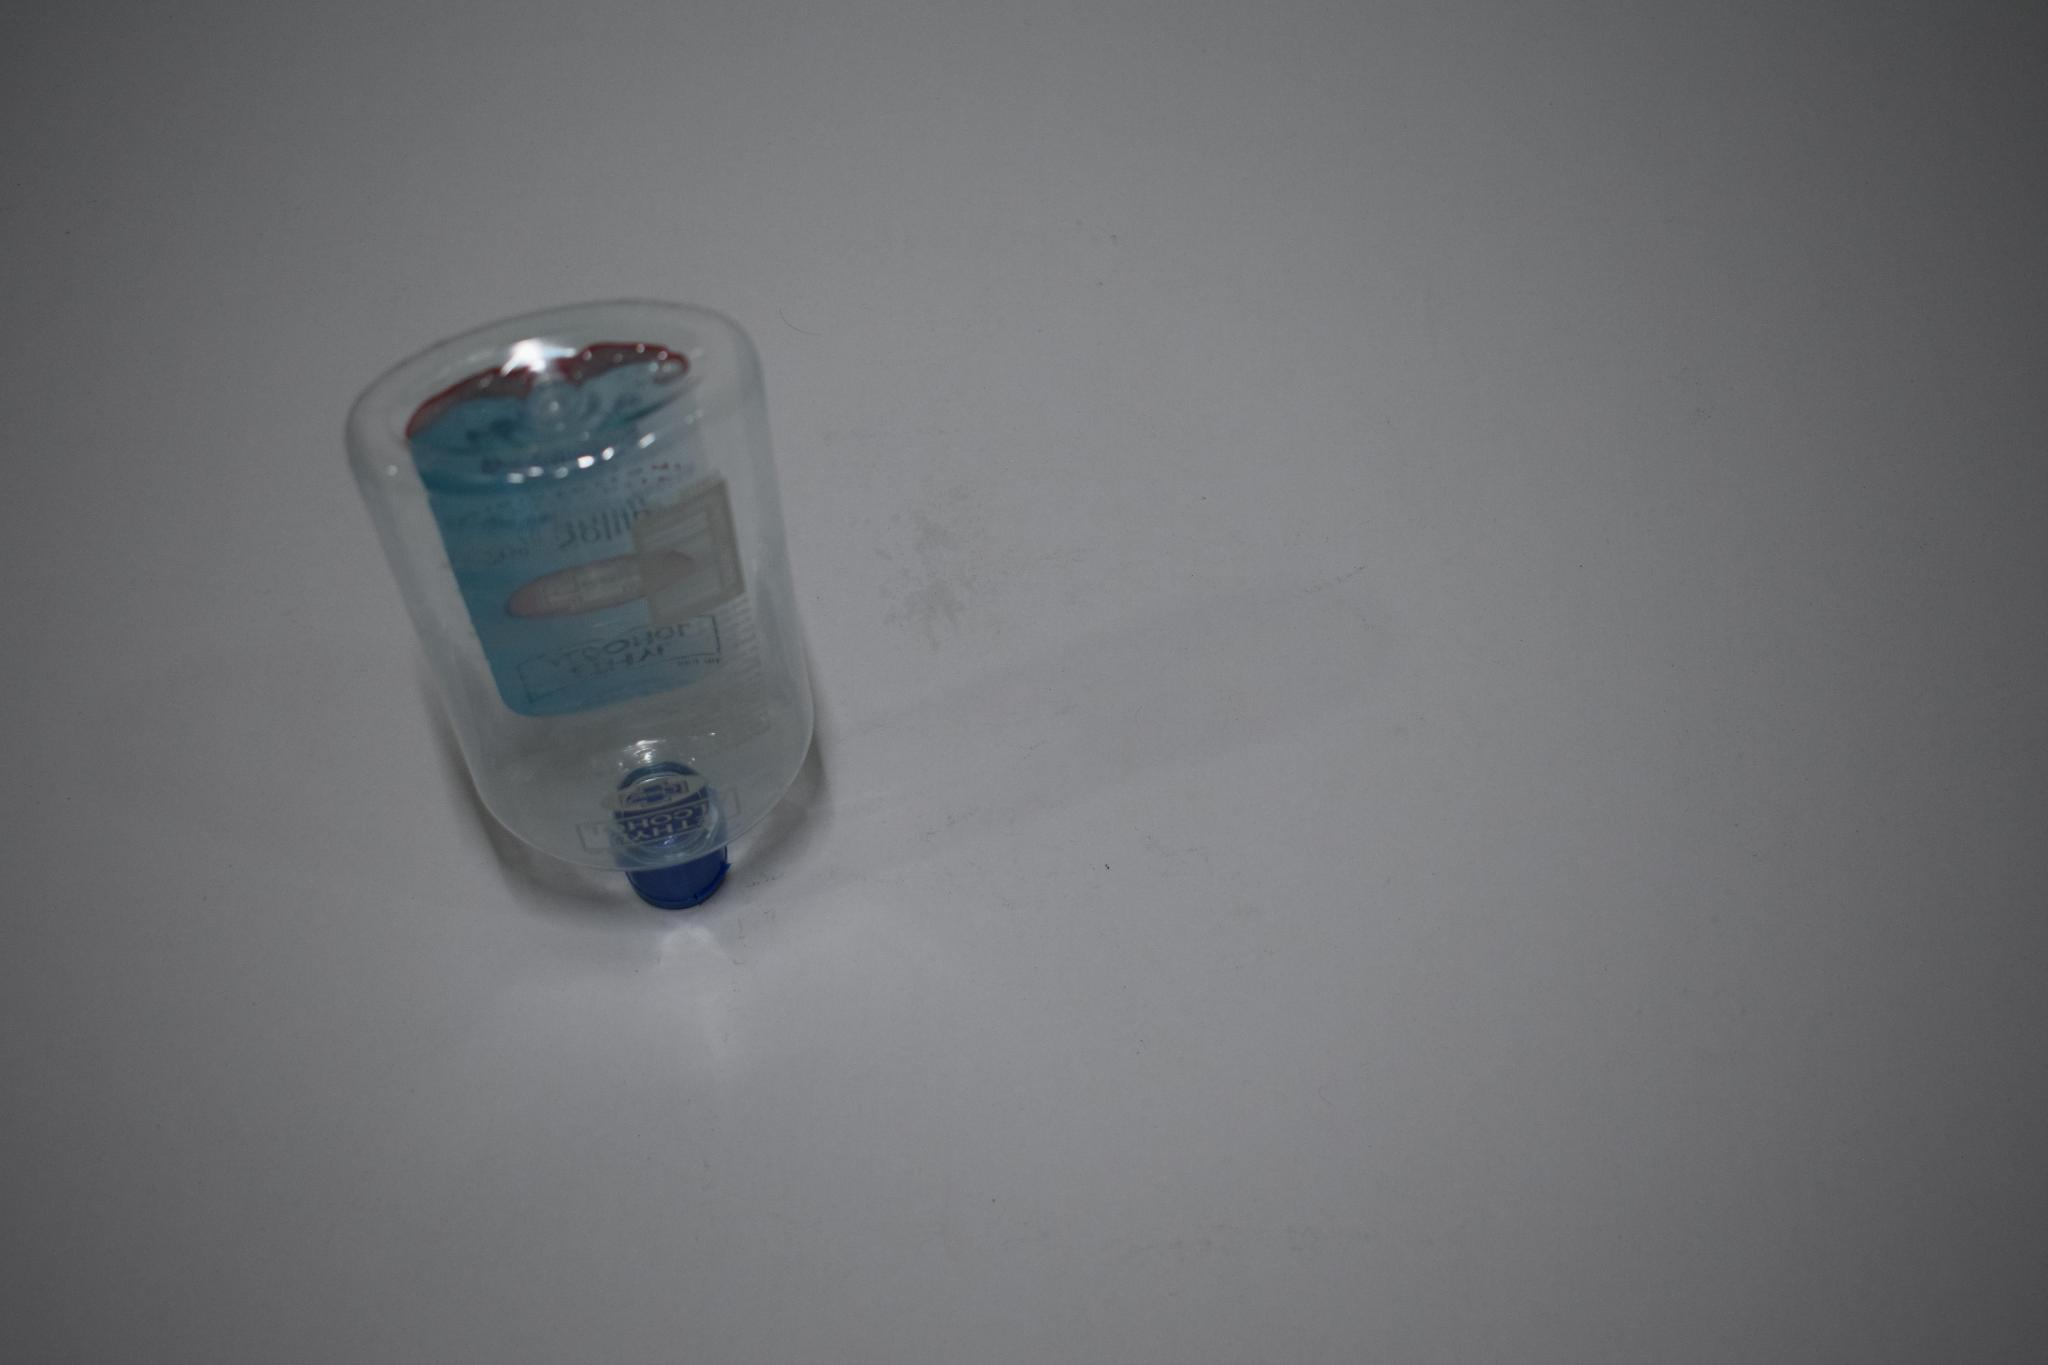bottle: (337, 329, 827, 884)
